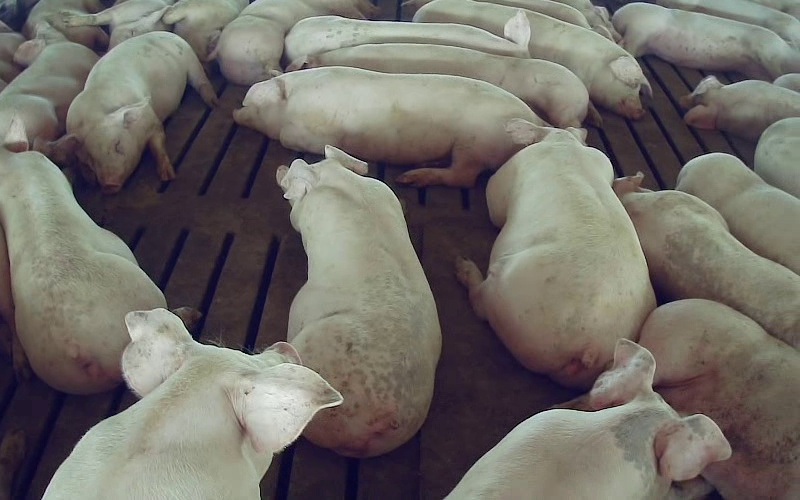pig: (45, 309, 342, 499), (457, 120, 655, 387), (277, 146, 440, 456), (446, 339, 730, 499), (0, 118, 165, 393), (233, 67, 542, 186), (614, 172, 799, 349), (639, 299, 799, 499), (54, 31, 216, 192), (676, 153, 799, 274), (613, 3, 799, 79), (209, 0, 375, 84), (285, 10, 530, 62), (0, 23, 98, 140), (680, 76, 799, 140)
